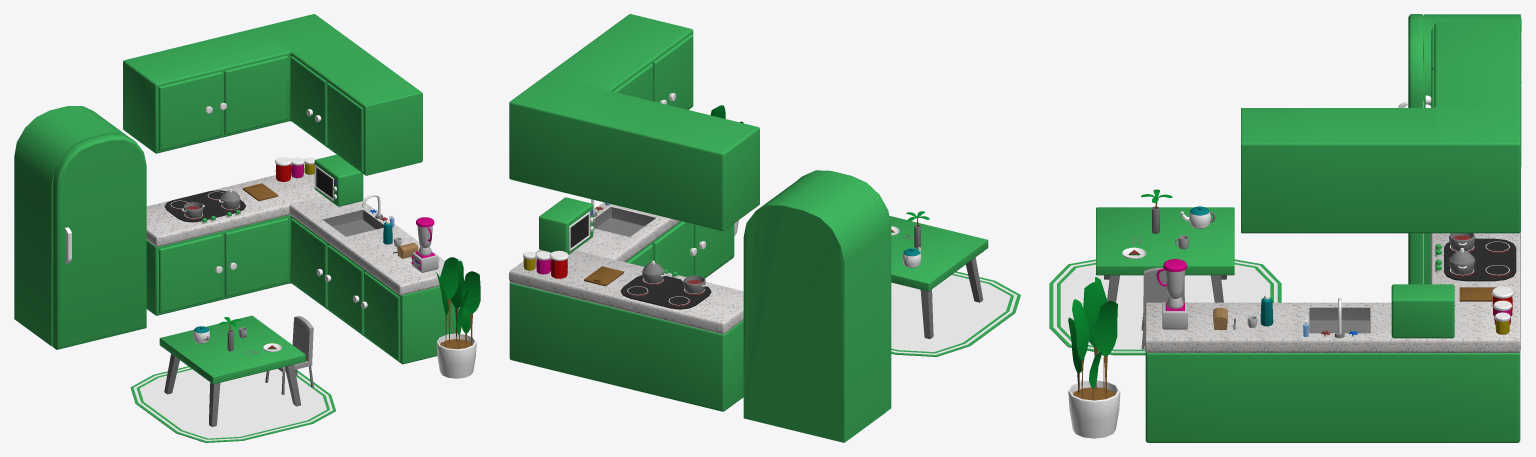
The model's file is Kitchen.fbx.
3 renders of one model, left to right at view 1: azimuth 30°, elevation 25°; view 2: azimuth 150°, elevation 25°; view 3: azimuth 270°, elevation 25°, orthographic. The views are drawn at different scales.
Parts seen in each view (by area): view 1: Kitchen.014, Kitchen.001, Kitchen.030, Kitchen.010, Kitchen, Kitchen.031, owen, Kitchen.012, Juicer; view 2: Kitchen.030, Kitchen.001, Kitchen.014, Kitchen.010, Kitchen, owen; view 3: Kitchen.014, Kitchen.001, Kitchen, Kitchen.010, Kitchen.031, Kitchen.030, owen, Juicer, Kitchen.012, Pressuer cooker, tea bowl, Kitchen.026.
Part boxes in pixels (box(x1,y1,x2,y2)): Kitchen.014: box(146, 168, 459, 364); Kitchen.001: box(123, 14, 422, 175); Kitchen.030: box(14, 106, 146, 349); Kitchen.010: box(130, 366, 335, 442); Kitchen: box(159, 315, 305, 426); Kitchen.031: box(436, 257, 480, 378); owen: box(314, 154, 363, 206); Kitchen.012: box(265, 316, 313, 394); Juicer: box(411, 217, 438, 272); Kitchen.030: box(743, 170, 891, 442); Kitchen.001: box(509, 14, 759, 231); Kitchen.014: box(509, 199, 743, 411); Kitchen.010: box(891, 271, 1020, 356); Kitchen: box(889, 216, 988, 338); owen: box(539, 197, 594, 254); Kitchen.014: box(1144, 231, 1520, 442); Kitchen.001: box(1241, 22, 1520, 233); Kitchen: box(1096, 207, 1234, 302); Kitchen.010: box(1049, 259, 1281, 355); Kitchen.031: box(1068, 277, 1120, 438); Kitchen.030: box(1398, 14, 1521, 284); owen: box(1391, 284, 1454, 338); Juicer: box(1156, 259, 1187, 329); Kitchen.012: box(1141, 267, 1184, 349); Pressuer cooker: box(1449, 248, 1475, 274); tea bowl: box(1180, 206, 1215, 228); Kitchen.026: box(1459, 287, 1496, 301).
Size of the model in its own units: 577 by 426 by 605.
2 materials, 2 textured.
